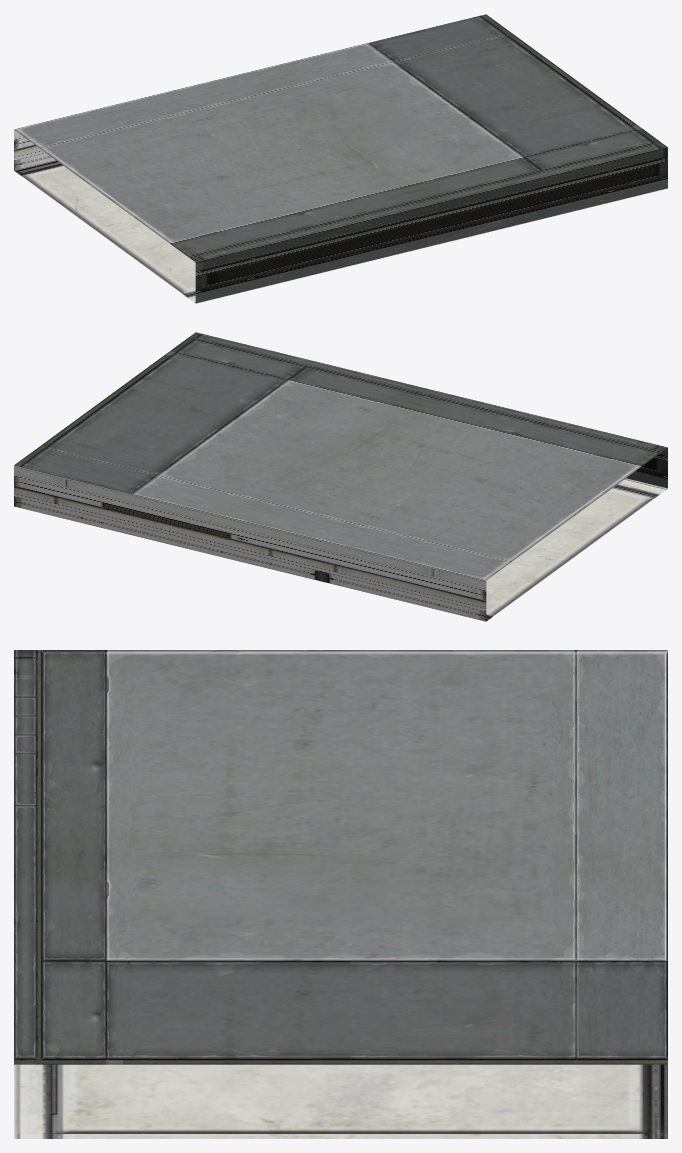
The model's file is Ceiling_12x8.FBX.
The picture shows the model from 3 angles, top to bottom: view 1: azimuth 30°, elevation 25°; view 2: azimuth 150°, elevation 25°; view 3: azimuth 270°, elevation 25°; orthographic projection. The views are drawn at different scales.
Visible parts, largest first — view 1: Ceiling_12x8; view 2: Ceiling_12x8; view 3: Ceiling_12x8.
Boxes of the visible parts, left/top/right/bottom form: Ceiling_12x8: left=14, top=14, right=667, bottom=303; Ceiling_12x8: left=14, top=332, right=667, bottom=621; Ceiling_12x8: left=14, top=650, right=667, bottom=1138.
Size of the model in its own units: 12 by 1 by 8.
